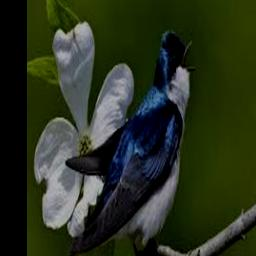Swallow: (66, 29, 196, 256)
